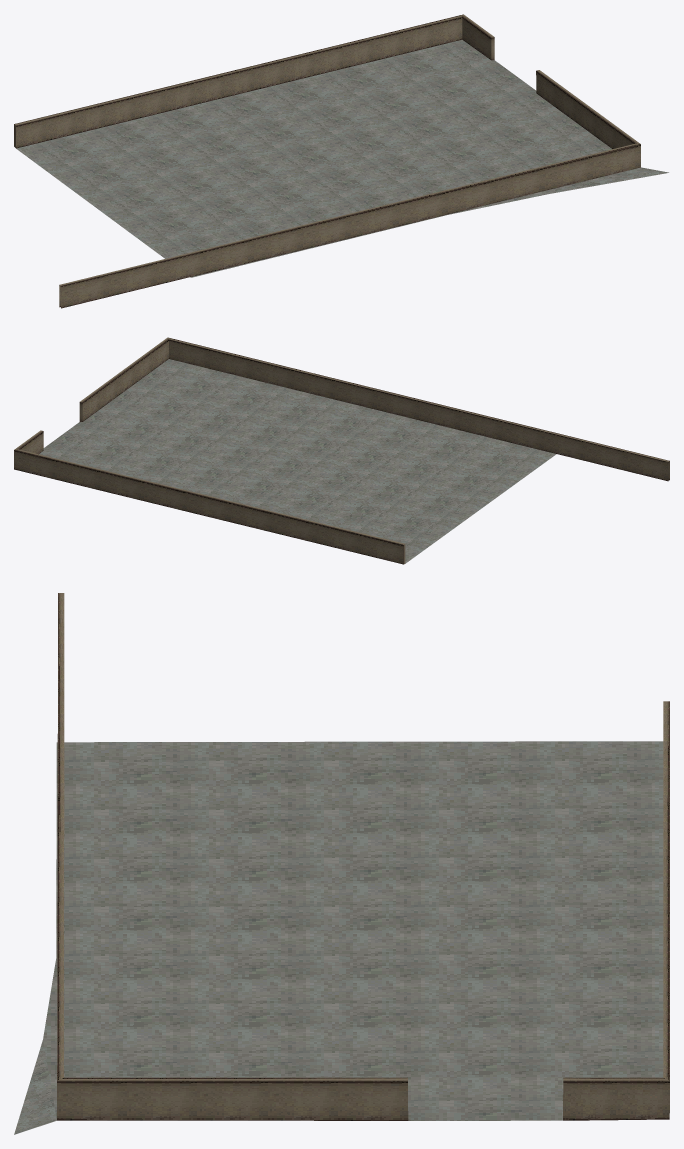
The model's file is lodchempl2_las2.obj.
The picture shows the model from 3 angles, top to bottom: view 1: azimuth 30°, elevation 25°; view 2: azimuth 150°, elevation 25°; view 3: azimuth 270°, elevation 25°; orthographic projection. The views are drawn at different scales.
Visible parts, largest first — view 1: LODChemPl2_LAs2; view 2: LODChemPl2_LAs2; view 3: LODChemPl2_LAs2.
Boxes of the visible parts, <box> form: LODChemPl2_LAs2: <box>14,14,668,308</box>; LODChemPl2_LAs2: <box>14,337,669,564</box>; LODChemPl2_LAs2: <box>14,593,669,1134</box>.
Bounding box in the file's own units: 155 × 5.92 × 85.48.
2 materials, 2 textured.
